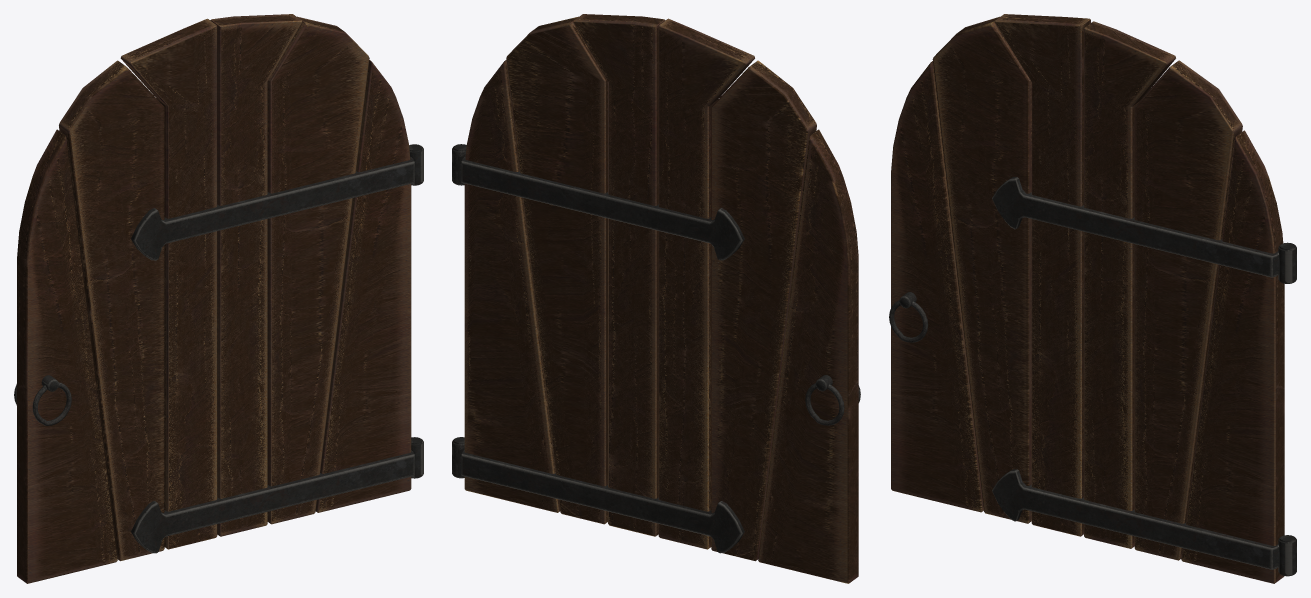
Rendered from doorglb.glb.
3 views of the same model, side by side, from view 1: azimuth 30°, elevation 25°; view 2: azimuth 150°, elevation 25°; view 3: azimuth 330°, elevation 25° (orthographic).
Visible parts, largest first — view 1: door; view 2: door; view 3: door.
Boxes of the visible parts, <box> form: door: <box>14,14,423,583</box>; door: <box>452,14,860,583</box>; door: <box>889,14,1296,583</box>.
Size of the model in its own units: 5.65 by 6.91 by 0.56.
Materials: 2 (2 with a texture image).
